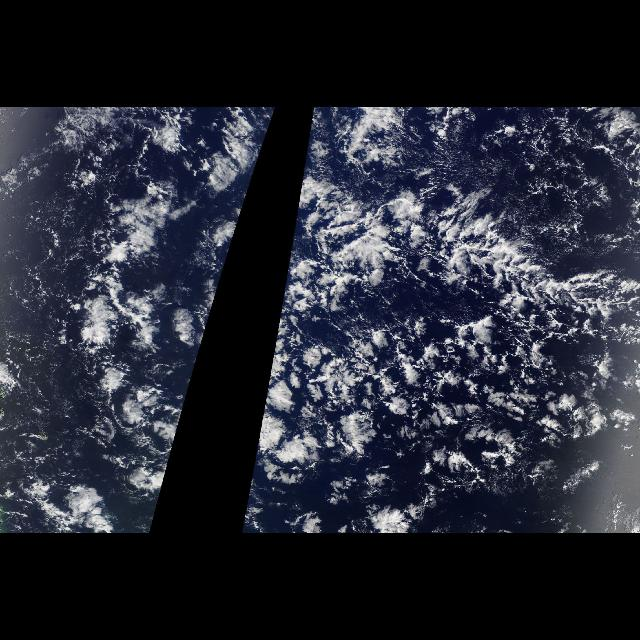Fish: (454, 186, 640, 318)
Flower: (55, 119, 272, 533), (240, 119, 450, 533), (454, 322, 636, 498)
